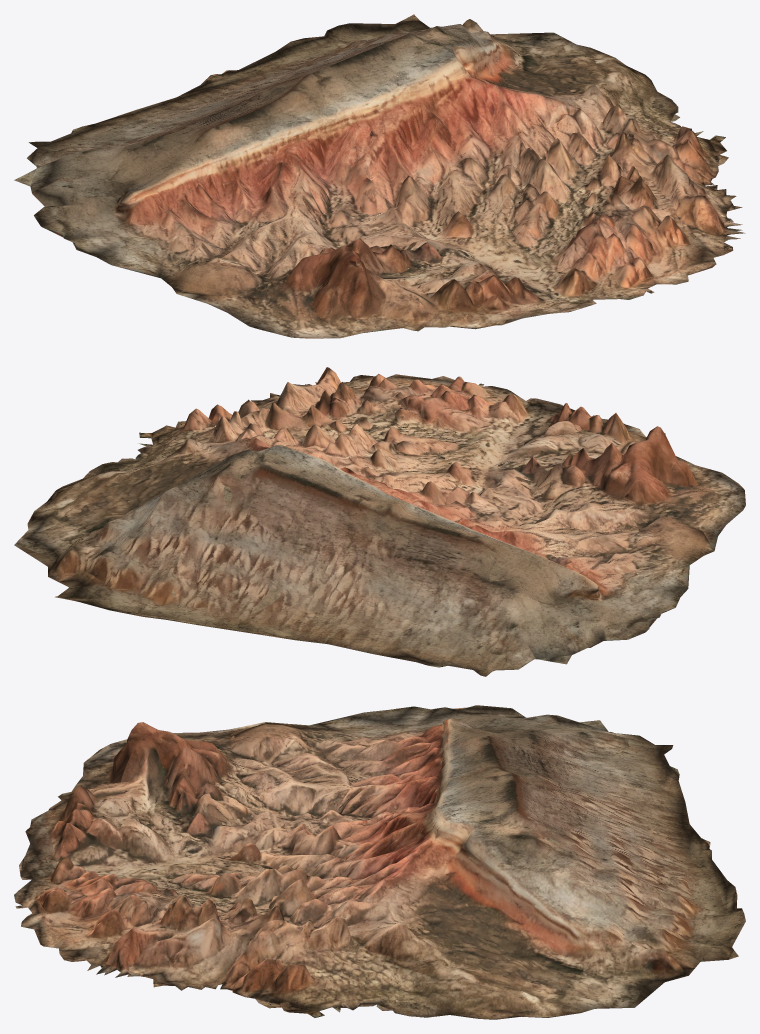
The model's file is city_nevsehir_valley.glb.
3 views of the same model, one above another, from view 1: azimuth 30°, elevation 25°; view 2: azimuth 150°, elevation 25°; view 3: azimuth 270°, elevation 25° (orthographic). The views are drawn at different scales.
Parts seen in each view (by area): view 1: Mesh1.0; view 2: Mesh1.0; view 3: Mesh1.0.
Boxes of the visible parts, x1=… form: Mesh1.0: x1=14, y1=14, x2=745, y2=338; Mesh1.0: x1=14, y1=367, x2=745, y2=676; Mesh1.0: x1=14, y1=705, x2=745, y2=1019.
Bounding box in the file's own units: 39.72 × 6 × 39.12.
1 material, 1 textured.
